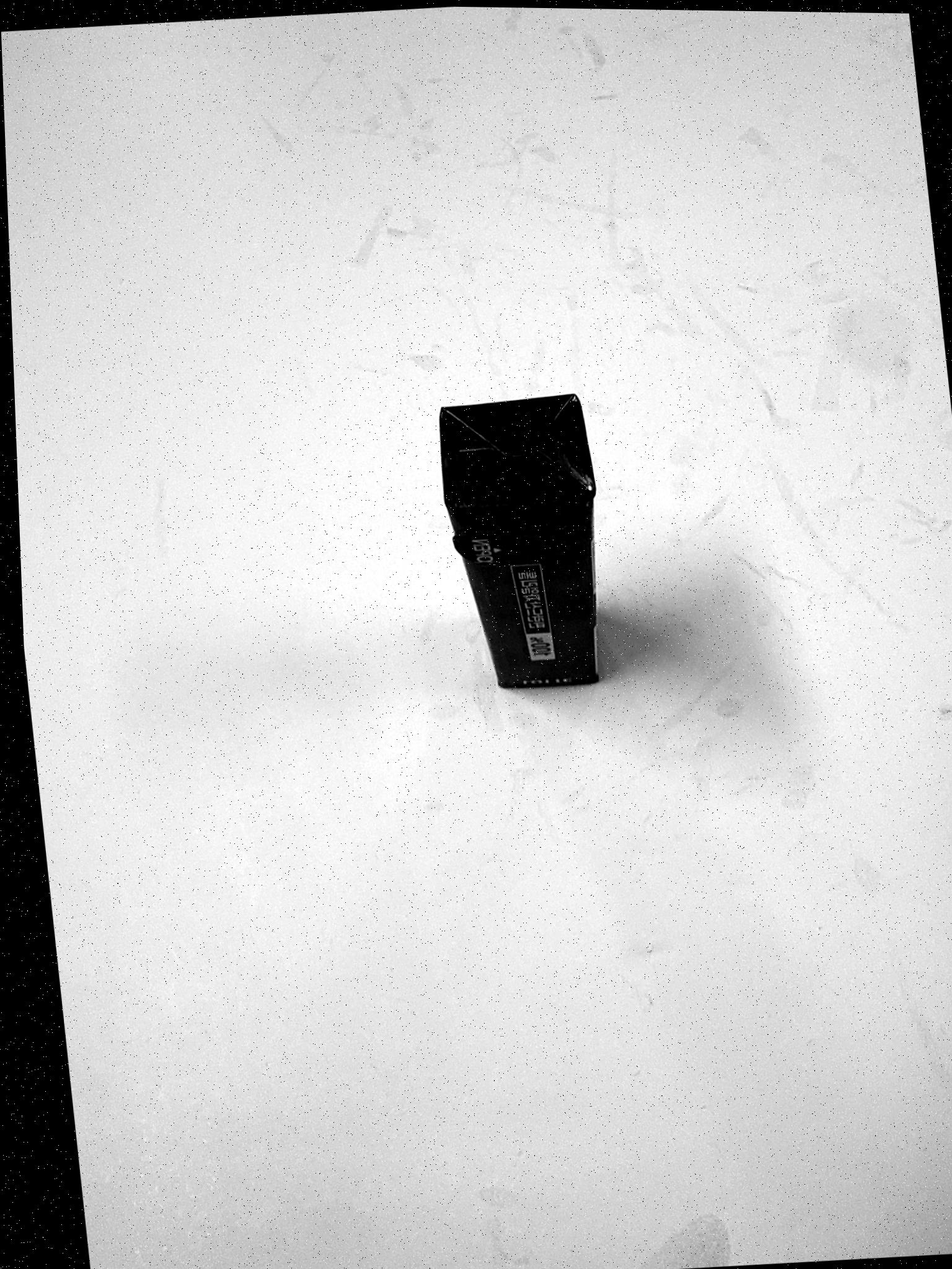gum_green: (439, 394, 605, 690)
